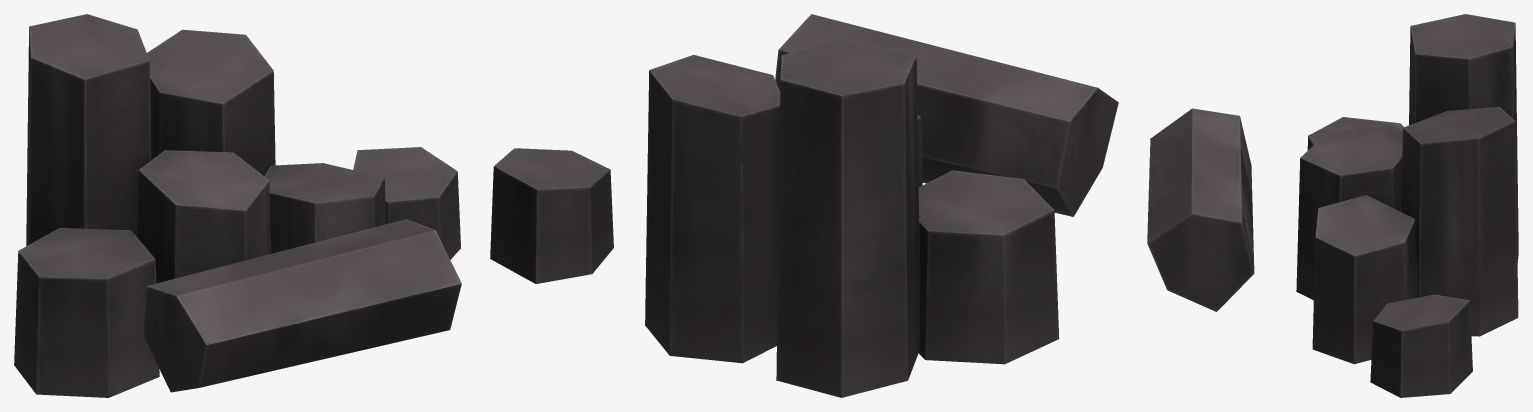
Rendered from rock_basalt_b.glb.
3 renders of one model, left to right at view 1: azimuth 30°, elevation 25°; view 2: azimuth 150°, elevation 25°; view 3: azimuth 270°, elevation 25°, orthographic. The views are drawn at different scales.
Parts seen in each view (by area): view 1: Static_Mesh; view 2: Static_Mesh; view 3: Static_Mesh.
Part boxes in pixels (x1,y1,x2,y2): Static_Mesh: [14, 14, 461, 397]; Static_Mesh: [490, 14, 1118, 397]; Static_Mesh: [1147, 14, 1518, 397].
Bounding box in the file's own units: 2.61 × 1.47 × 2.14.
1 material, 1 textured.
